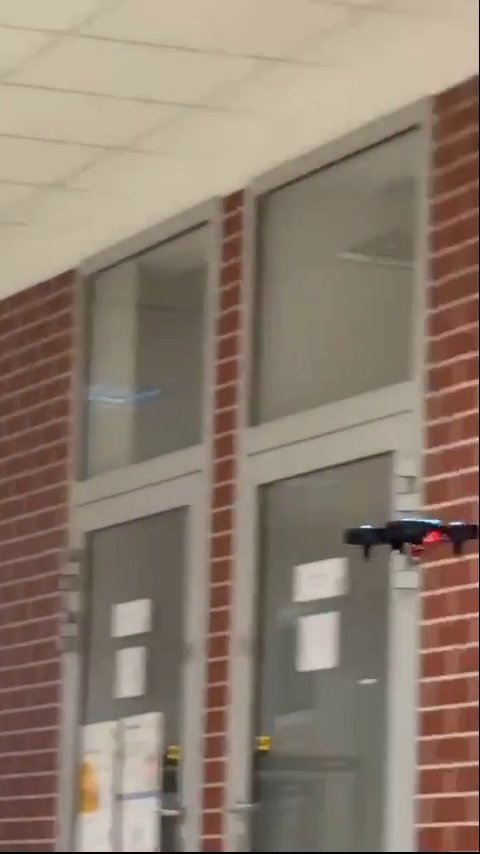drone: (346, 512, 477, 560)
